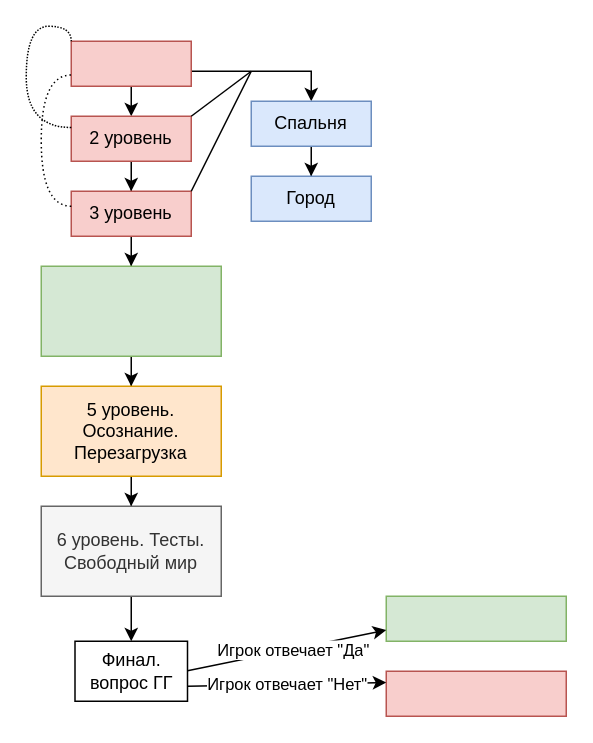
The diagram is 593 pixels wide and 743 high, and some of its shapes have lost their labels. The centre of each missing label's shape, as x and y in pixels:
"1 уровень" goes at (x=130, y=63).
"4 уровень. Хобби по фэнтэзи" goes at (x=130, y=310).
"Выбор уровней" goes at (x=475, y=618).
"Статичный экран" goes at (x=475, y=693).
